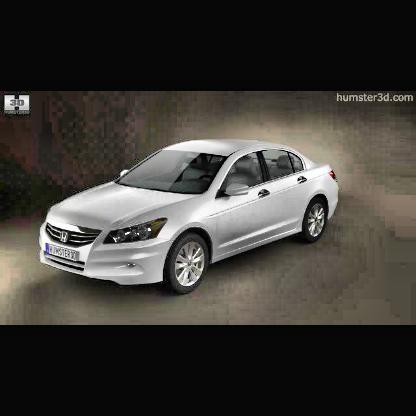Honda Accord Sedan 2012: (40, 139, 340, 296)
